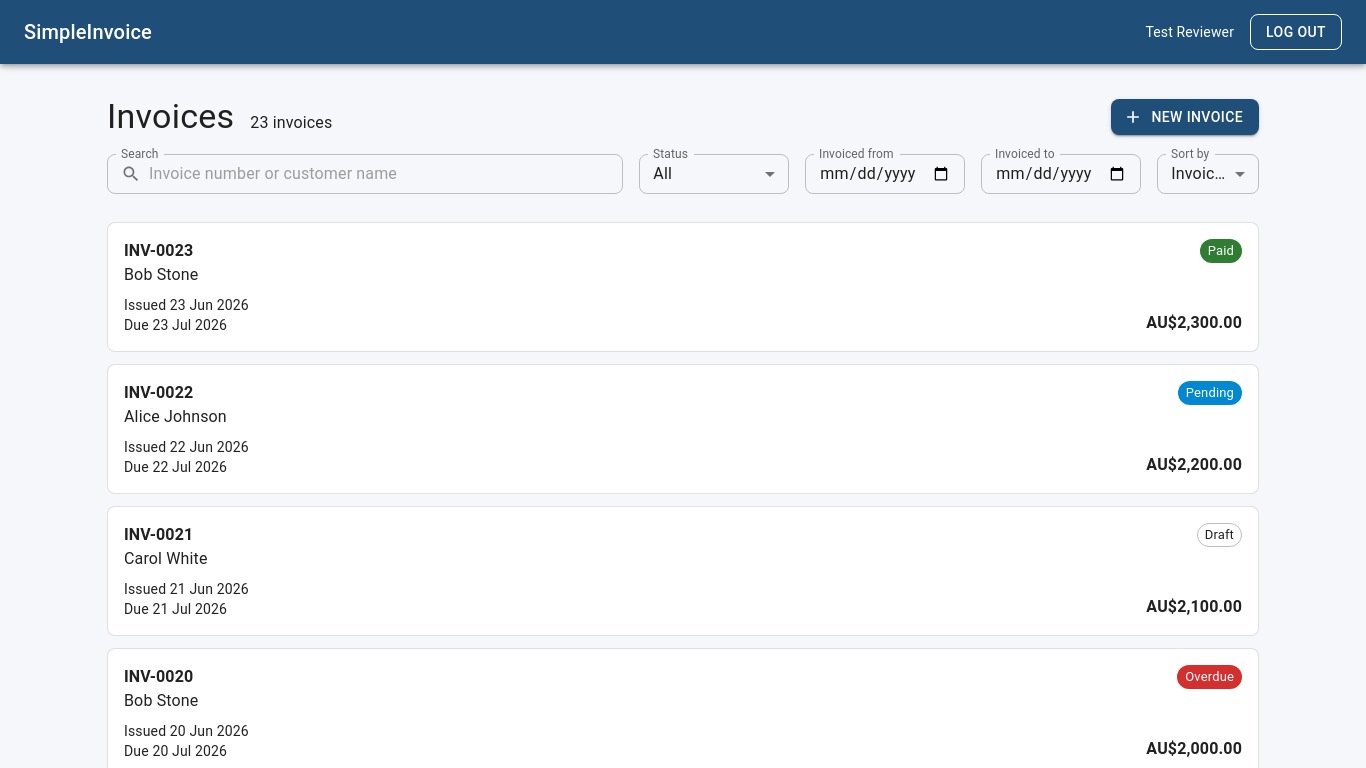
Test: InvoiceDetailPage › reaching it from the list › opens when a card is tapped on a phone
Click the link that starts with "INV-0023".
click(159, 250)  # box [108,223,1258,351]
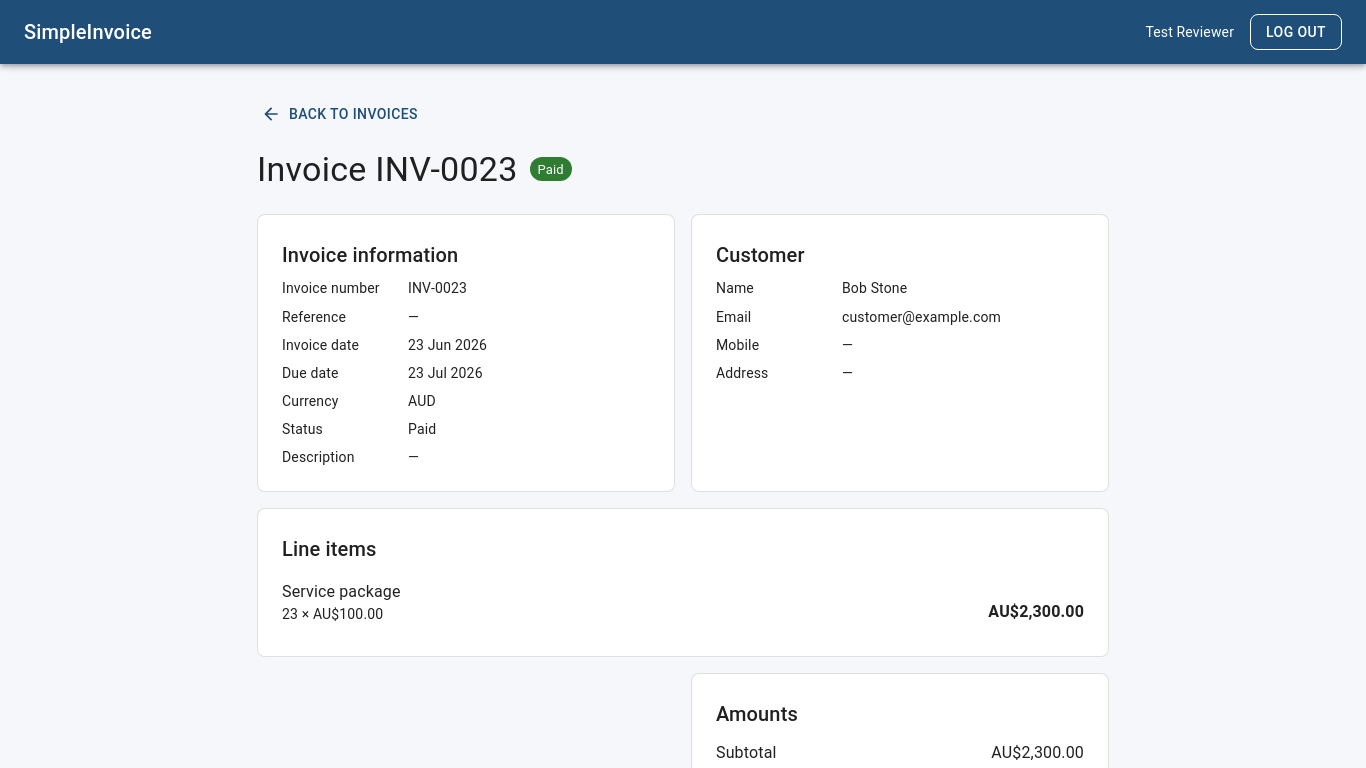
Check: the heading "Invoice INV-0023" is shown, box [257,148,518,190]
